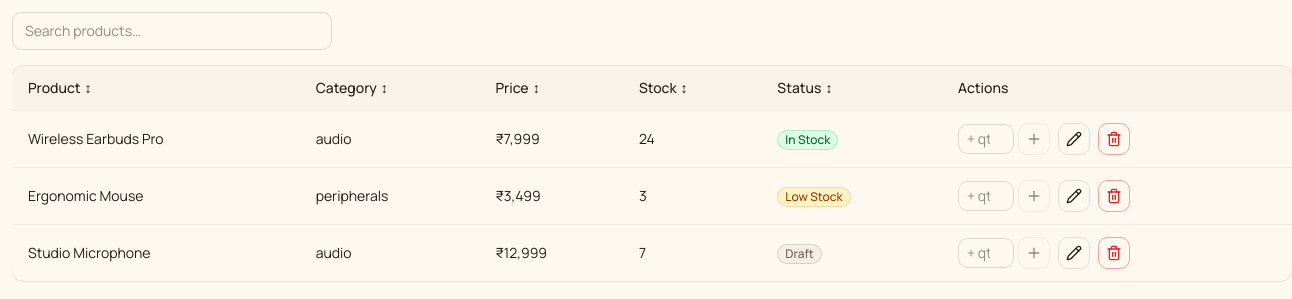
InventoryTable › filters by derived status text
Expected: the text "Studio Microphone" is shown, [12,224,300,281]
Step 1. Type "draft" into the search field labelled "Search products…" → {"x": 172, "y": 31}, box [12,12,332,50]
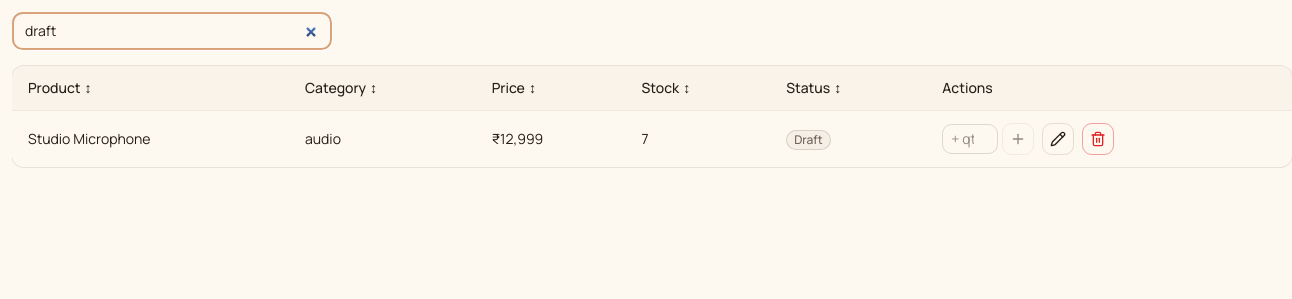
Expected: the text "Studio Microphone" is shown, [12,110,289,167]
Result: the text "Wireless Earbuds Pro" is gone
